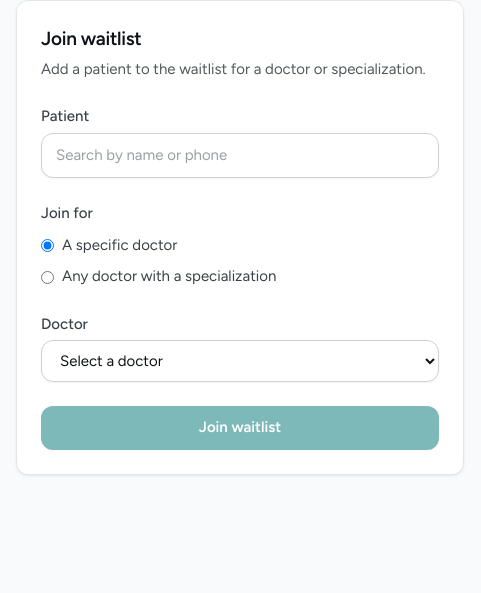
StaffJoinWaitlistForm › disables submit and explains when the selected patient has no online account
Type "Rajesh" into the dropdown labelled "Patient" at (240, 155), box [41,133,439,178]
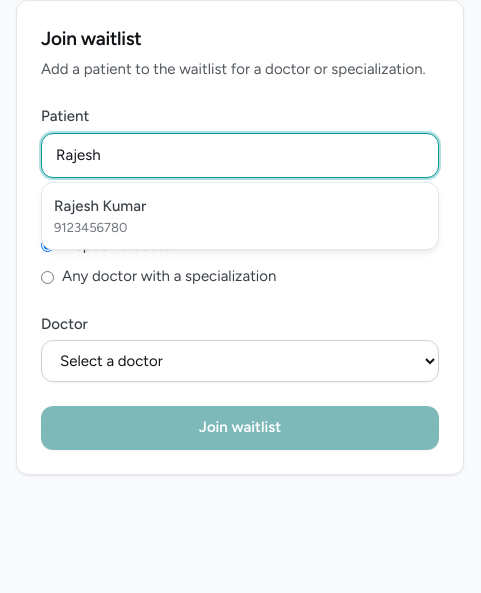
expect the option "Rajesh Kumar 9123456780" is shown: met
Click the option "Rajesh Kumar 9123456780" at (100, 216), box [54,197,146,235]
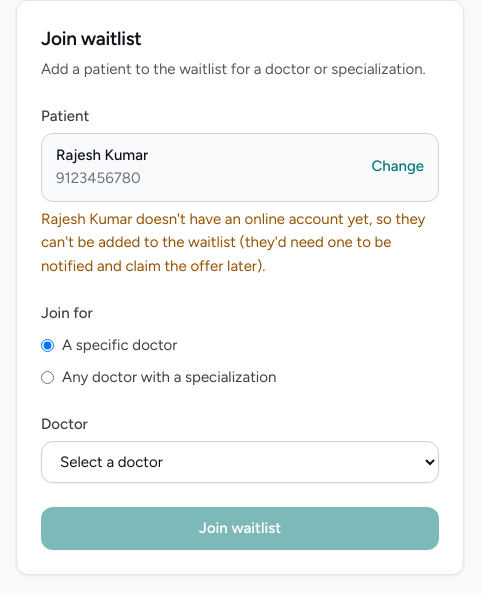
expect the button "Join waitlist" is disabled: met, box [41,507,439,550]
expect the text "doesn't have an online account yet" is shown: met, box [41,210,425,275]
